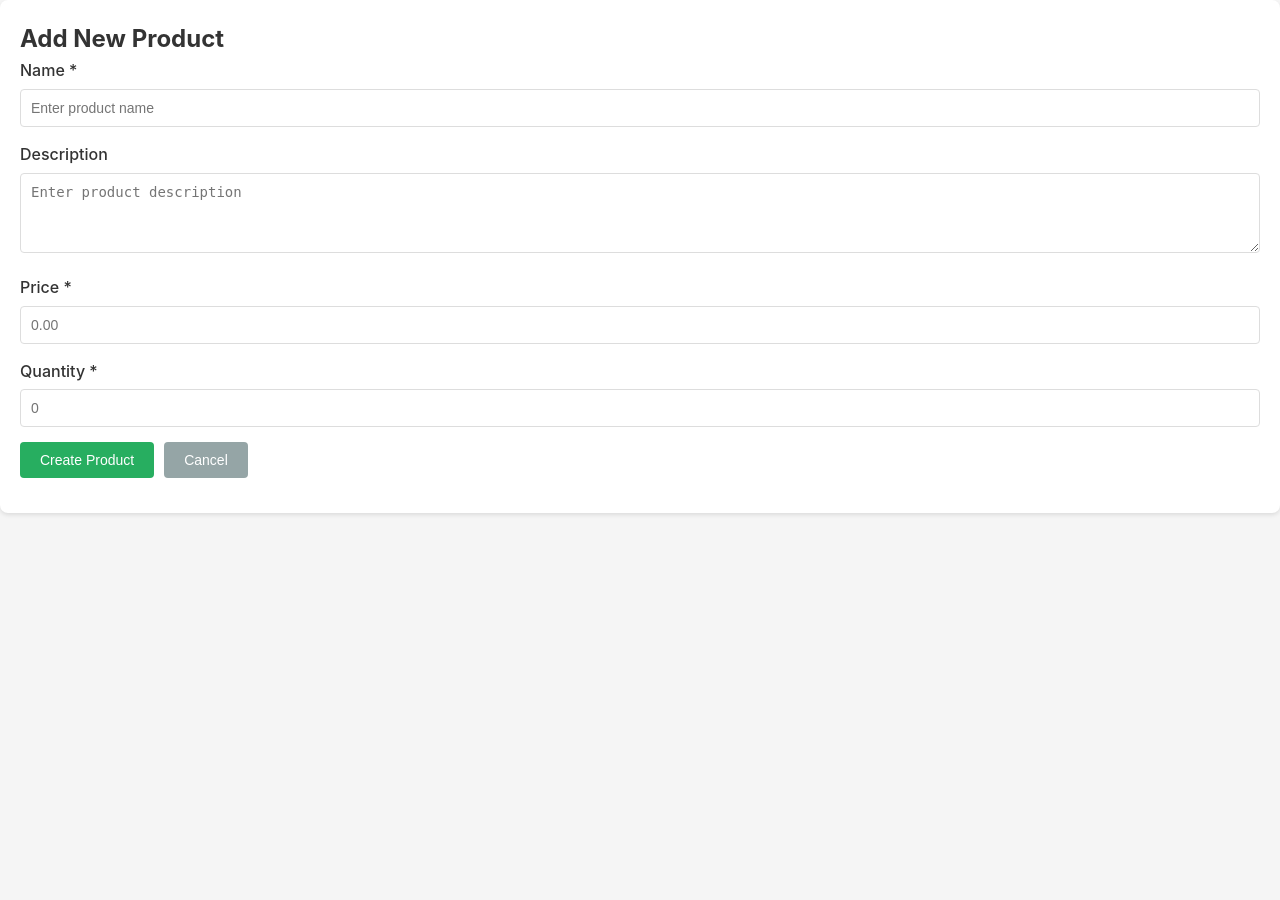
ProductForm › clears validation errors when user types
Click the button "Create Product".
click(87, 460)  # box [20,442,154,478]
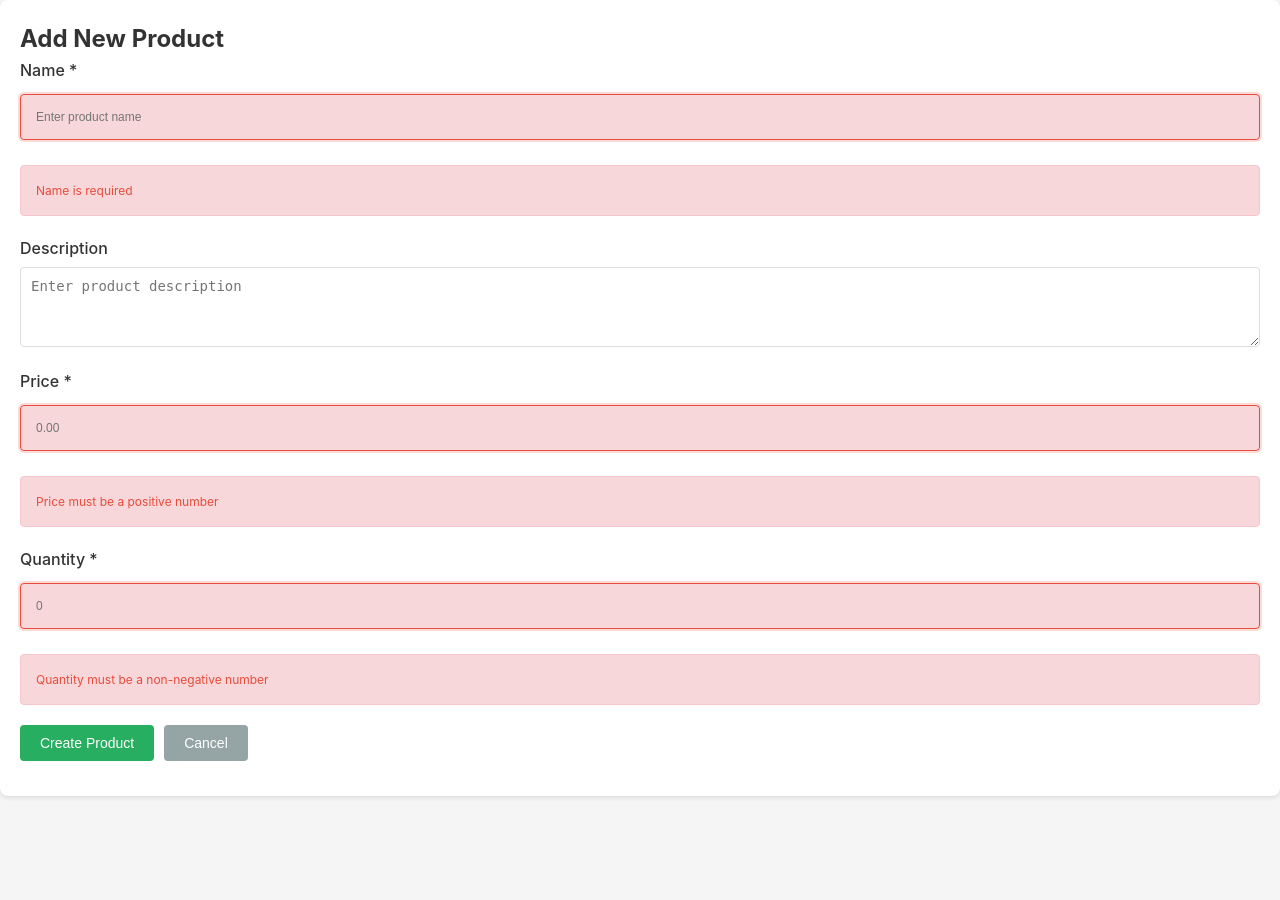
Check: the text "Name is required" is shown, box [20,165,1260,216]
Type "Test Name" into the field labelled "Name *".
click(640, 117); type("Test Name")  # box [20,94,1260,140]
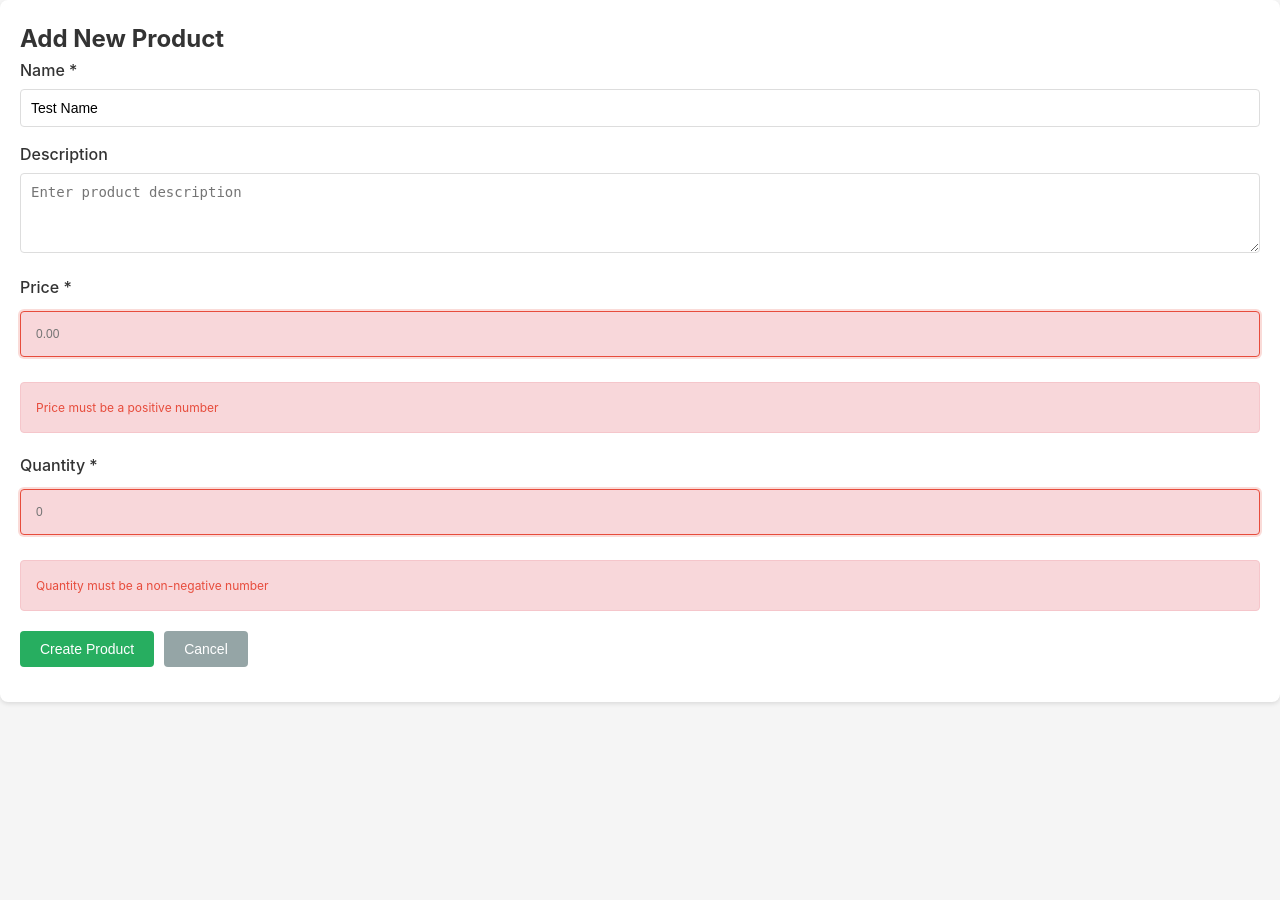
Check: the text "Name is required" is gone
